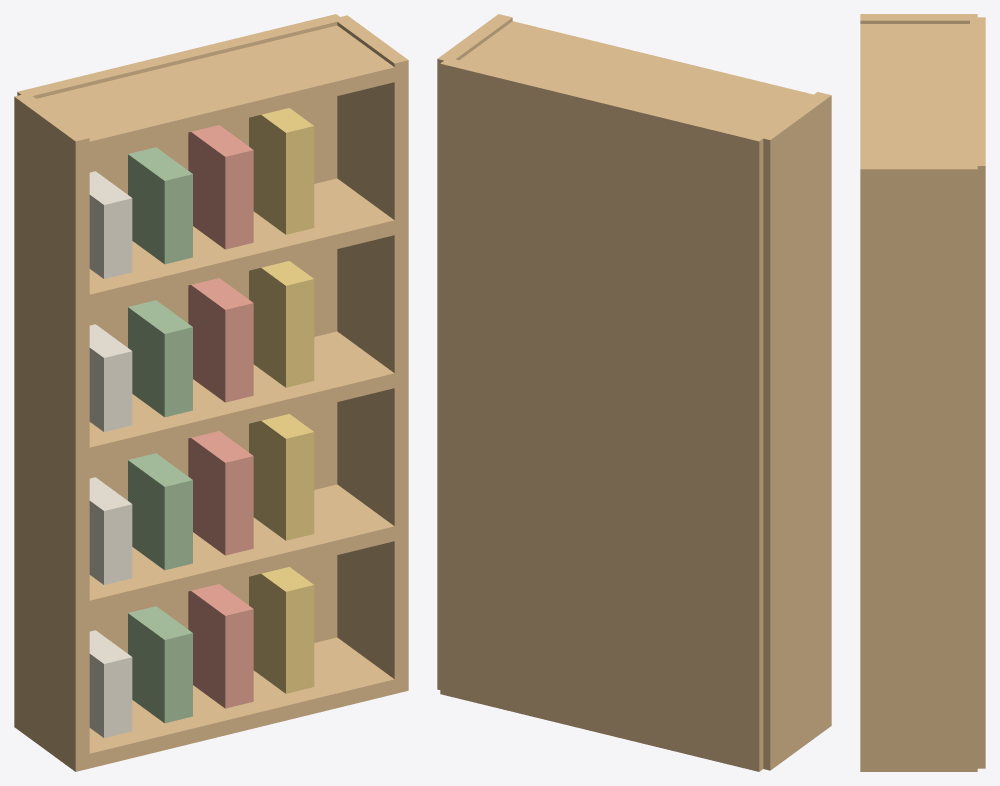
Rendered from cozy-home-interiors-bookcase-ca34c275.glb.
3 renders of one model, left to right at view 1: azimuth 30°, elevation 25°; view 2: azimuth 150°, elevation 25°; view 3: azimuth 270°, elevation 25°, orthographic. The views are drawn at different scales.
Parts seen in each view (by area): view 1: bookcase; view 2: bookcase; view 3: bookcase.
Boxes of the visible parts, x1,y1,x2,y2 form: bookcase: (14, 14, 408, 771); bookcase: (437, 14, 831, 771); bookcase: (860, 14, 985, 771).
Size of the model in its own units: 0.94 by 1.7 by 0.32.
